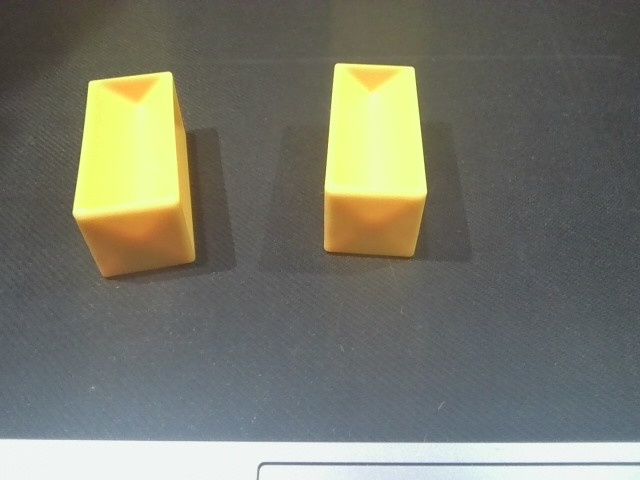YellowSample: (68, 67, 199, 280), (317, 58, 427, 260)
